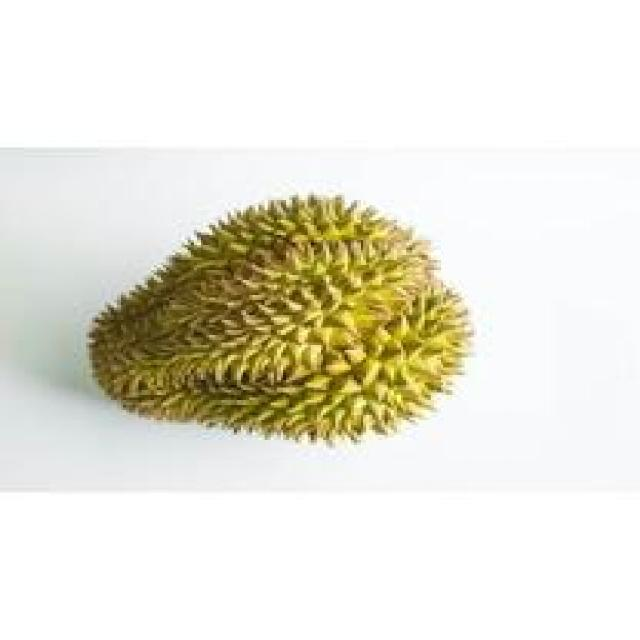fruit: (64, 160, 473, 498)
